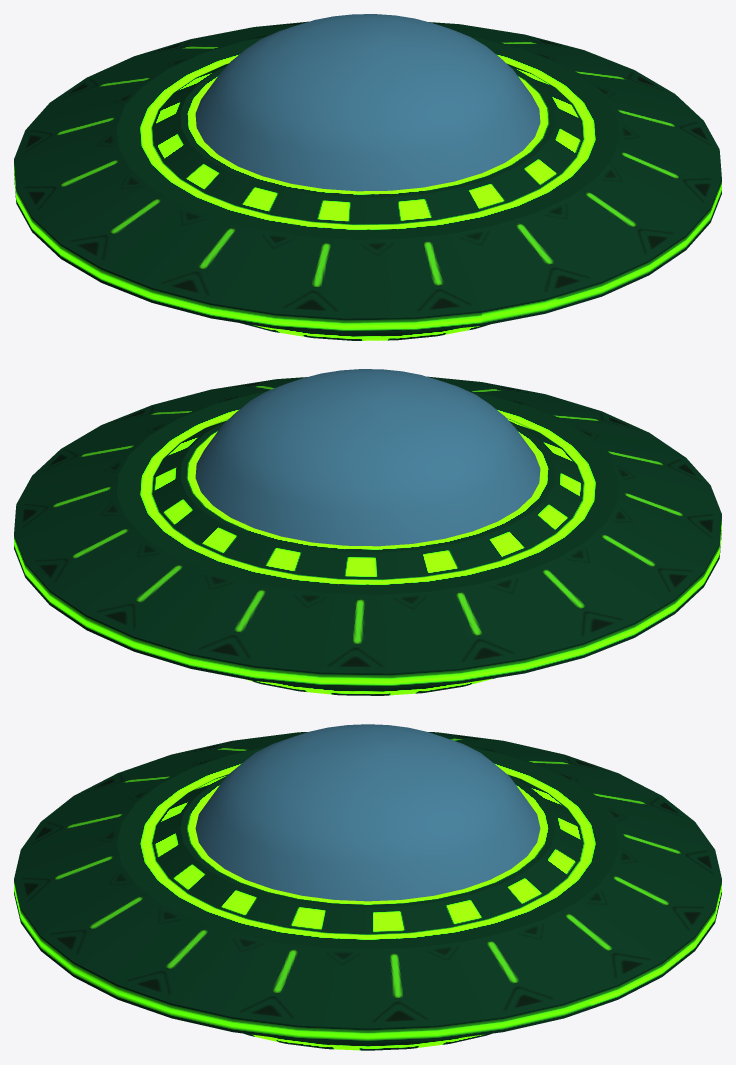
The model's file is ufo.glb.
The picture shows the model from 3 angles, top to bottom: view 1: azimuth 30°, elevation 25°; view 2: azimuth 150°, elevation 25°; view 3: azimuth 270°, elevation 25°; orthographic projection.
Visible parts, largest first — view 1: ufo low poly; view 2: ufo low poly; view 3: ufo low poly.
Part boxes in pixels (box(x1,y1,x2,y2)): ufo low poly: box(14, 14, 721, 340); ufo low poly: box(14, 369, 721, 695); ufo low poly: box(14, 724, 721, 1050).
Bounding box in the file's own units: 2.83 × 0.9948 × 2.83.
1 material, 1 textured.
